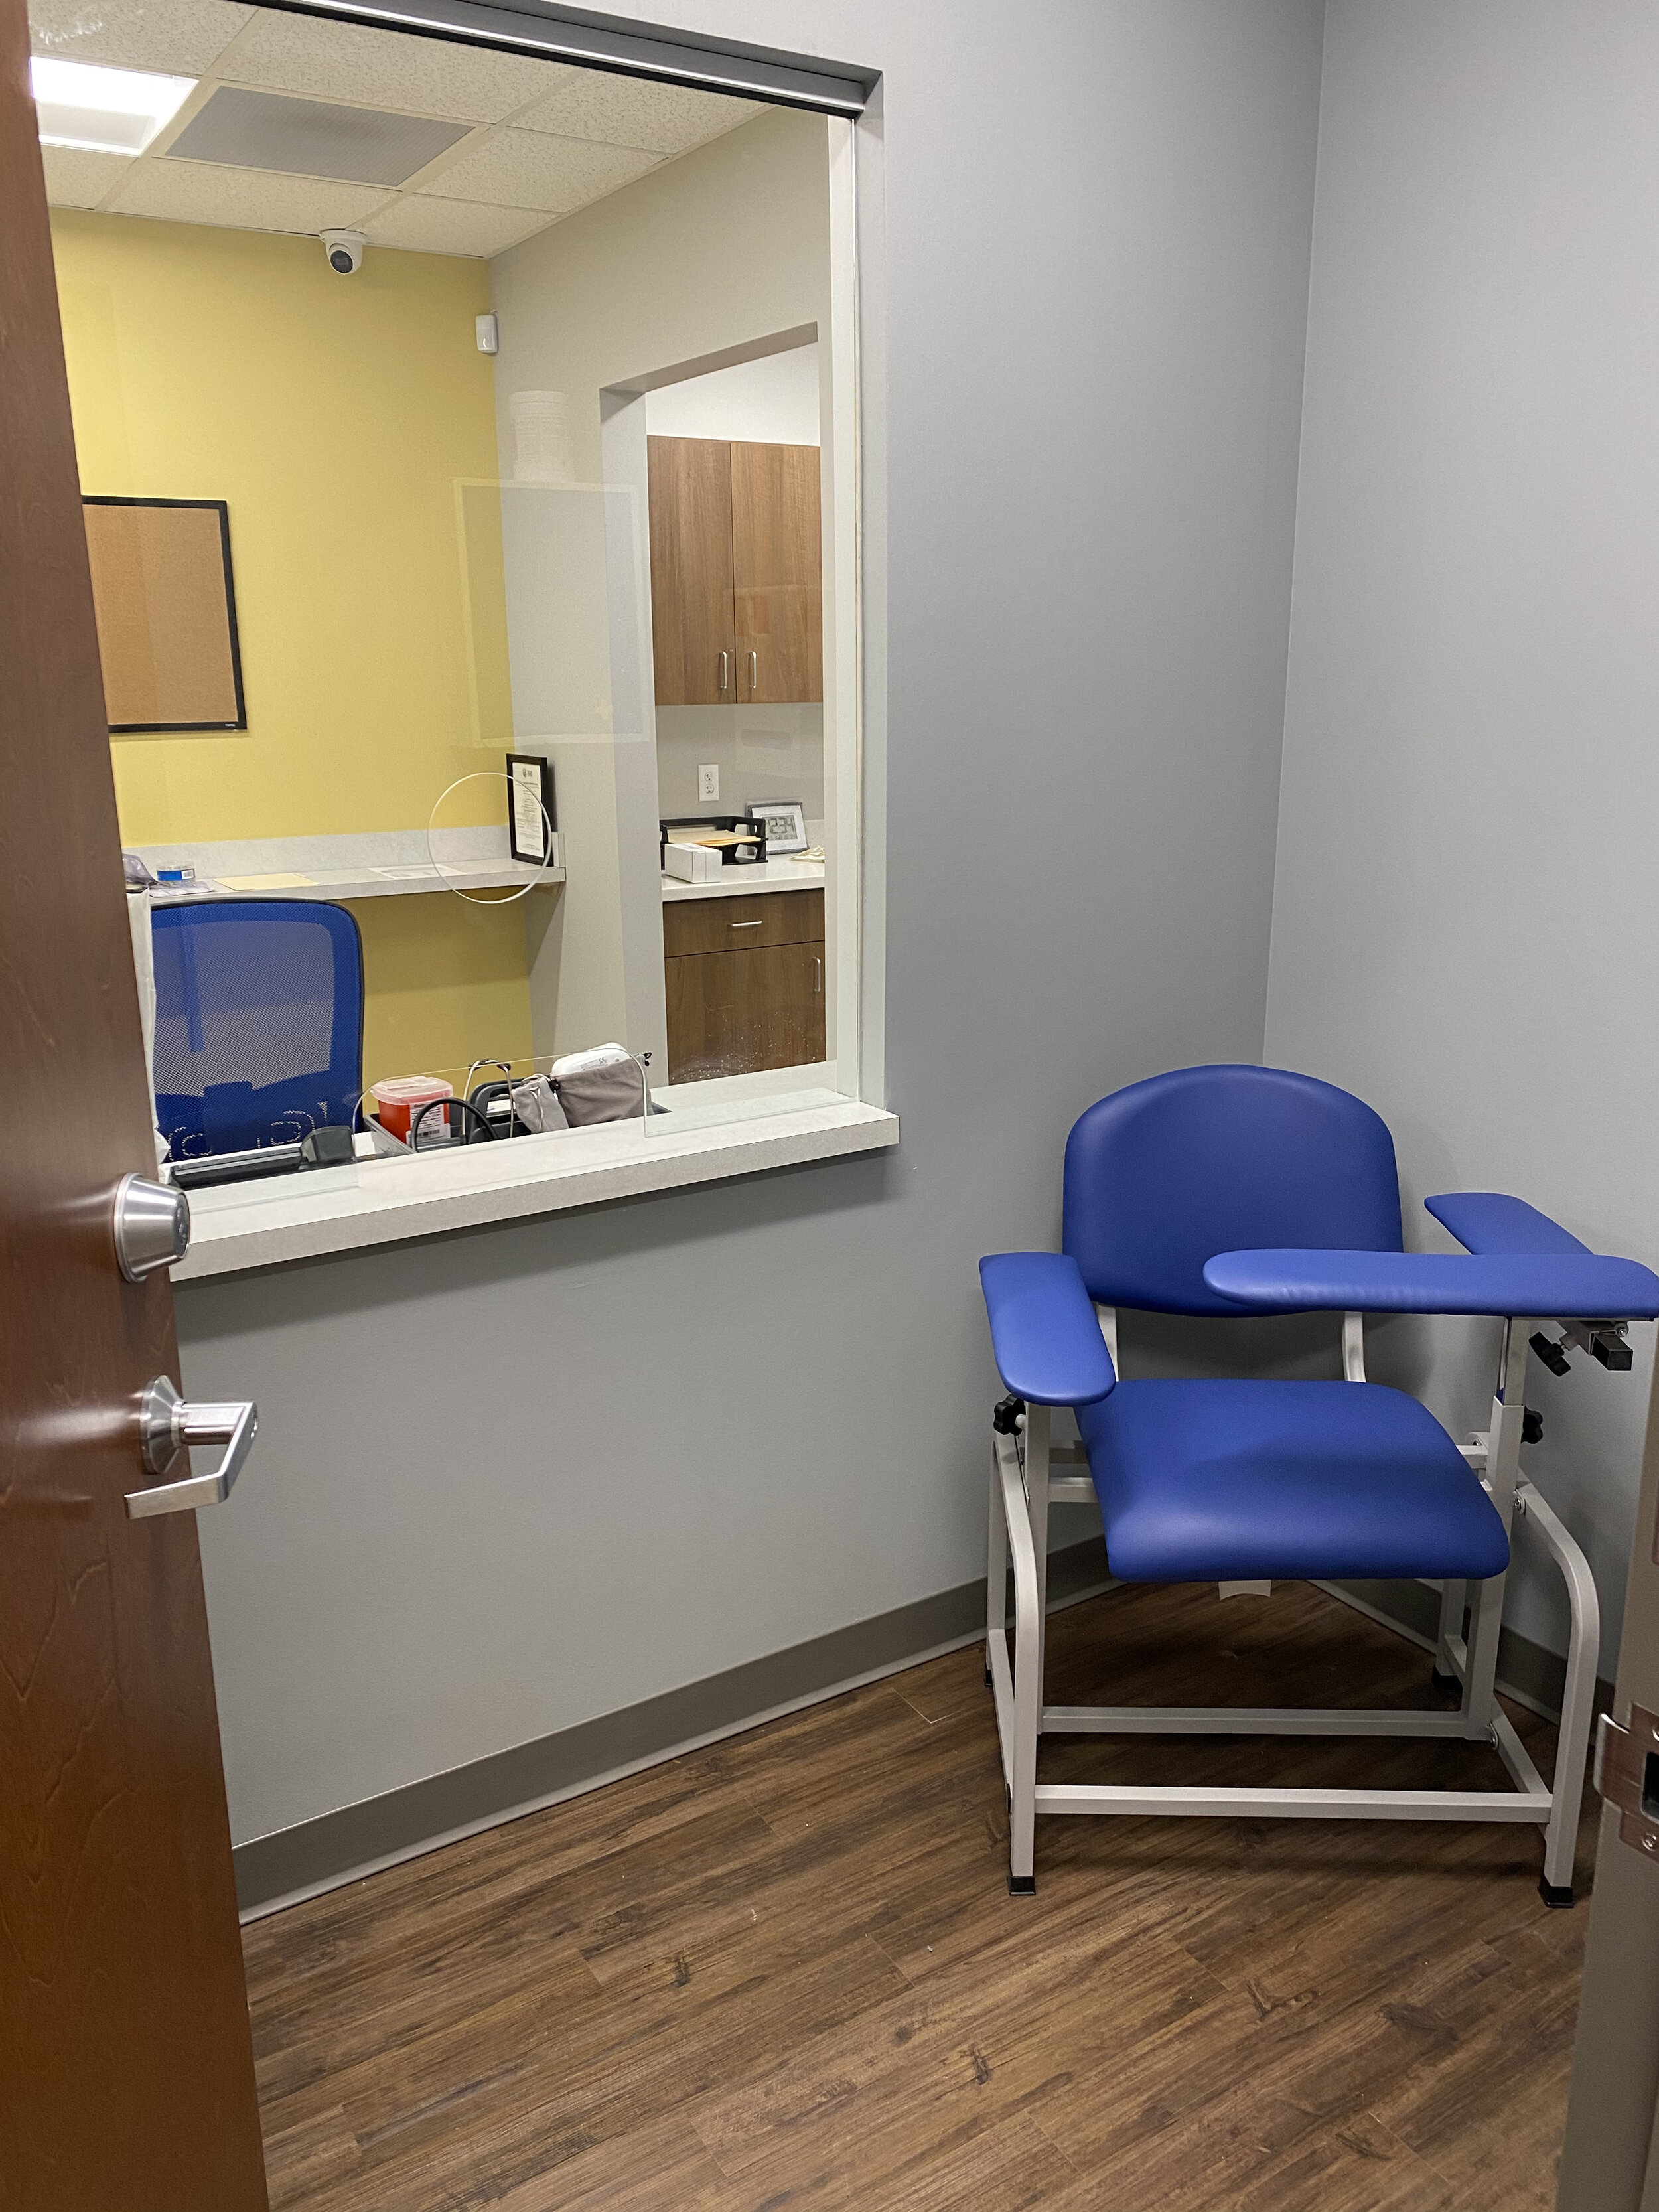cabinet: (636, 439, 833, 718)
chair: (978, 1062, 1659, 1909), (124, 887, 380, 1157)
counter: (657, 854, 836, 1069)
countertop: (134, 1084, 927, 1259), (89, 873, 556, 912)
door_handle: (122, 1375, 258, 1522)
handle: (741, 647, 765, 695), (711, 640, 730, 692), (807, 955, 826, 995), (727, 913, 765, 931)
